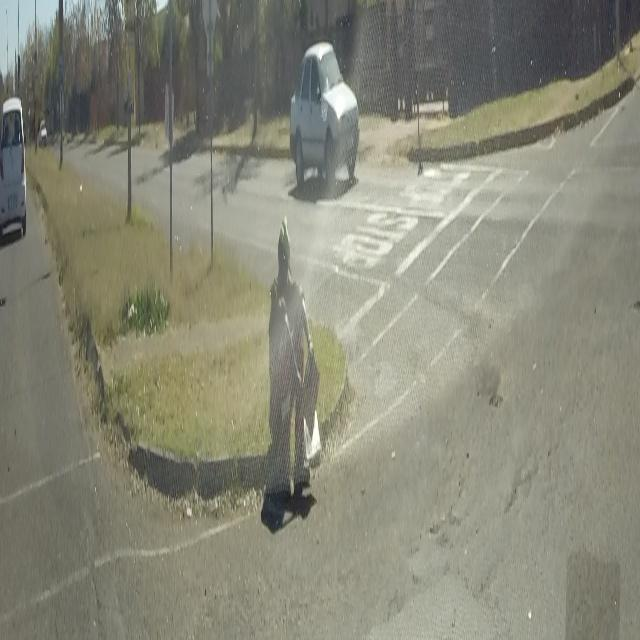pothole: (488, 385, 504, 406)
